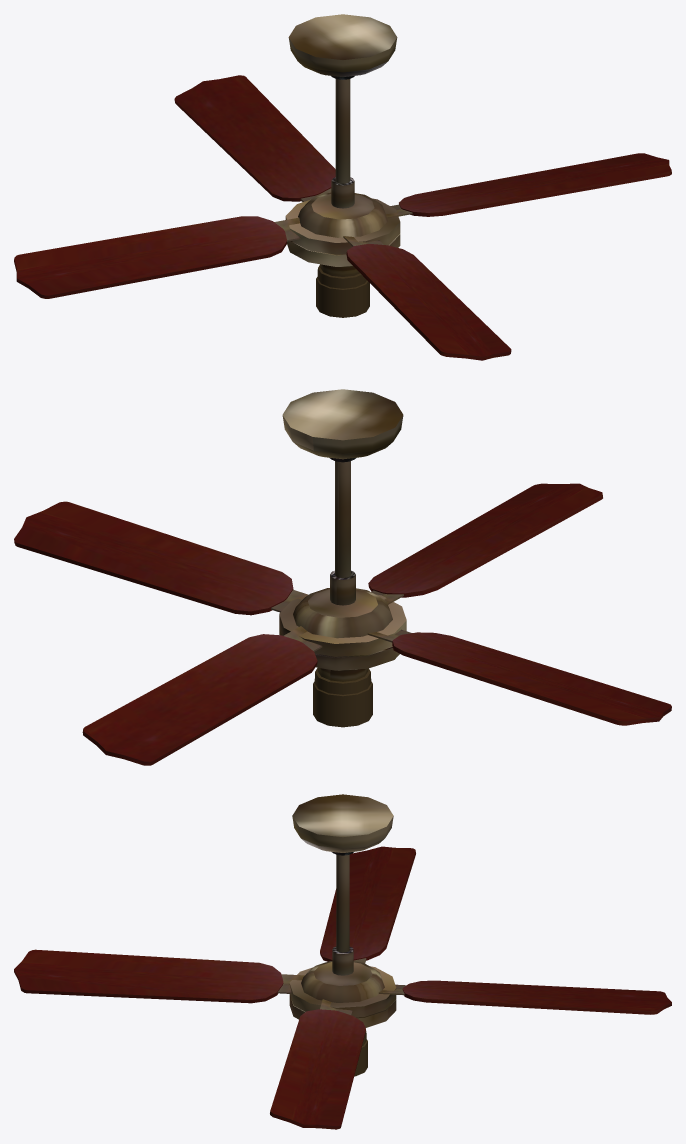
File: fan.glb
3 renders of one model, top to bottom at view 1: azimuth 30°, elevation 25°; view 2: azimuth 150°, elevation 25°; view 3: azimuth 270°, elevation 25°, orthographic. The views are drawn at different scales.
Visible parts, largest first — view 1: Cube_0, Cylinder_6, Cylinder.001_1, Cylinder.004_4, Cylinder.003_3; view 2: Cube_0, Cylinder_6, Cylinder.001_1, Cylinder.004_4, Cylinder.003_3; view 3: Cube_0, Cylinder_6, Cylinder.004_4, Cylinder.003_3.
Part boxes in pixels (<box>): Cube_0: <box>14,75,671,360</box>; Cylinder_6: <box>288,14,397,76</box>; Cylinder.001_1: <box>316,264,369,317</box>; Cylinder.004_4: <box>335,79,350,183</box>; Cylinder.003_3: <box>331,177,354,208</box>; Cube_0: <box>14,483,671,765</box>; Cylinder_6: <box>282,389,403,459</box>; Cylinder.001_1: <box>313,667,372,727</box>; Cylinder.004_4: <box>335,461,350,577</box>; Cylinder.003_3: <box>330,570,355,605</box>; Cube_0: <box>14,846,671,1129</box>; Cylinder_6: <box>292,794,393,852</box>; Cylinder.004_4: <box>336,854,349,952</box>; Cylinder.003_3: <box>332,946,353,975</box>.
Bounding box in the file's own units: 9.63 × 4.16 × 9.63.
6 materials, 6 textured.
